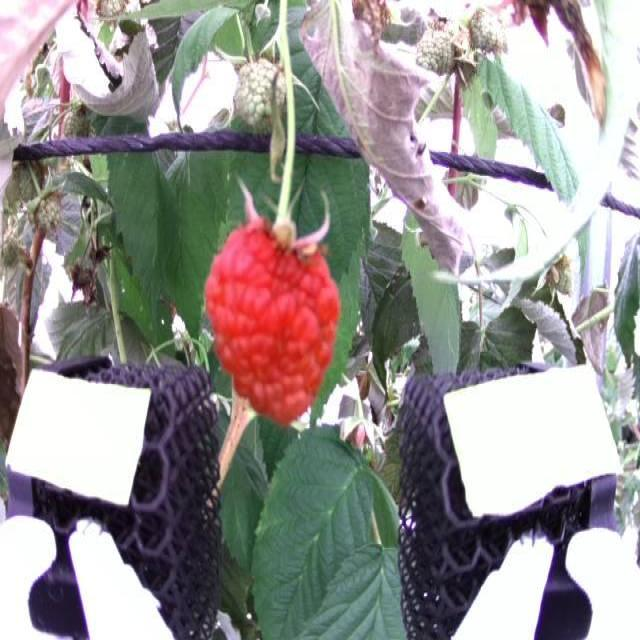Riped berries: (198, 203, 355, 421)
